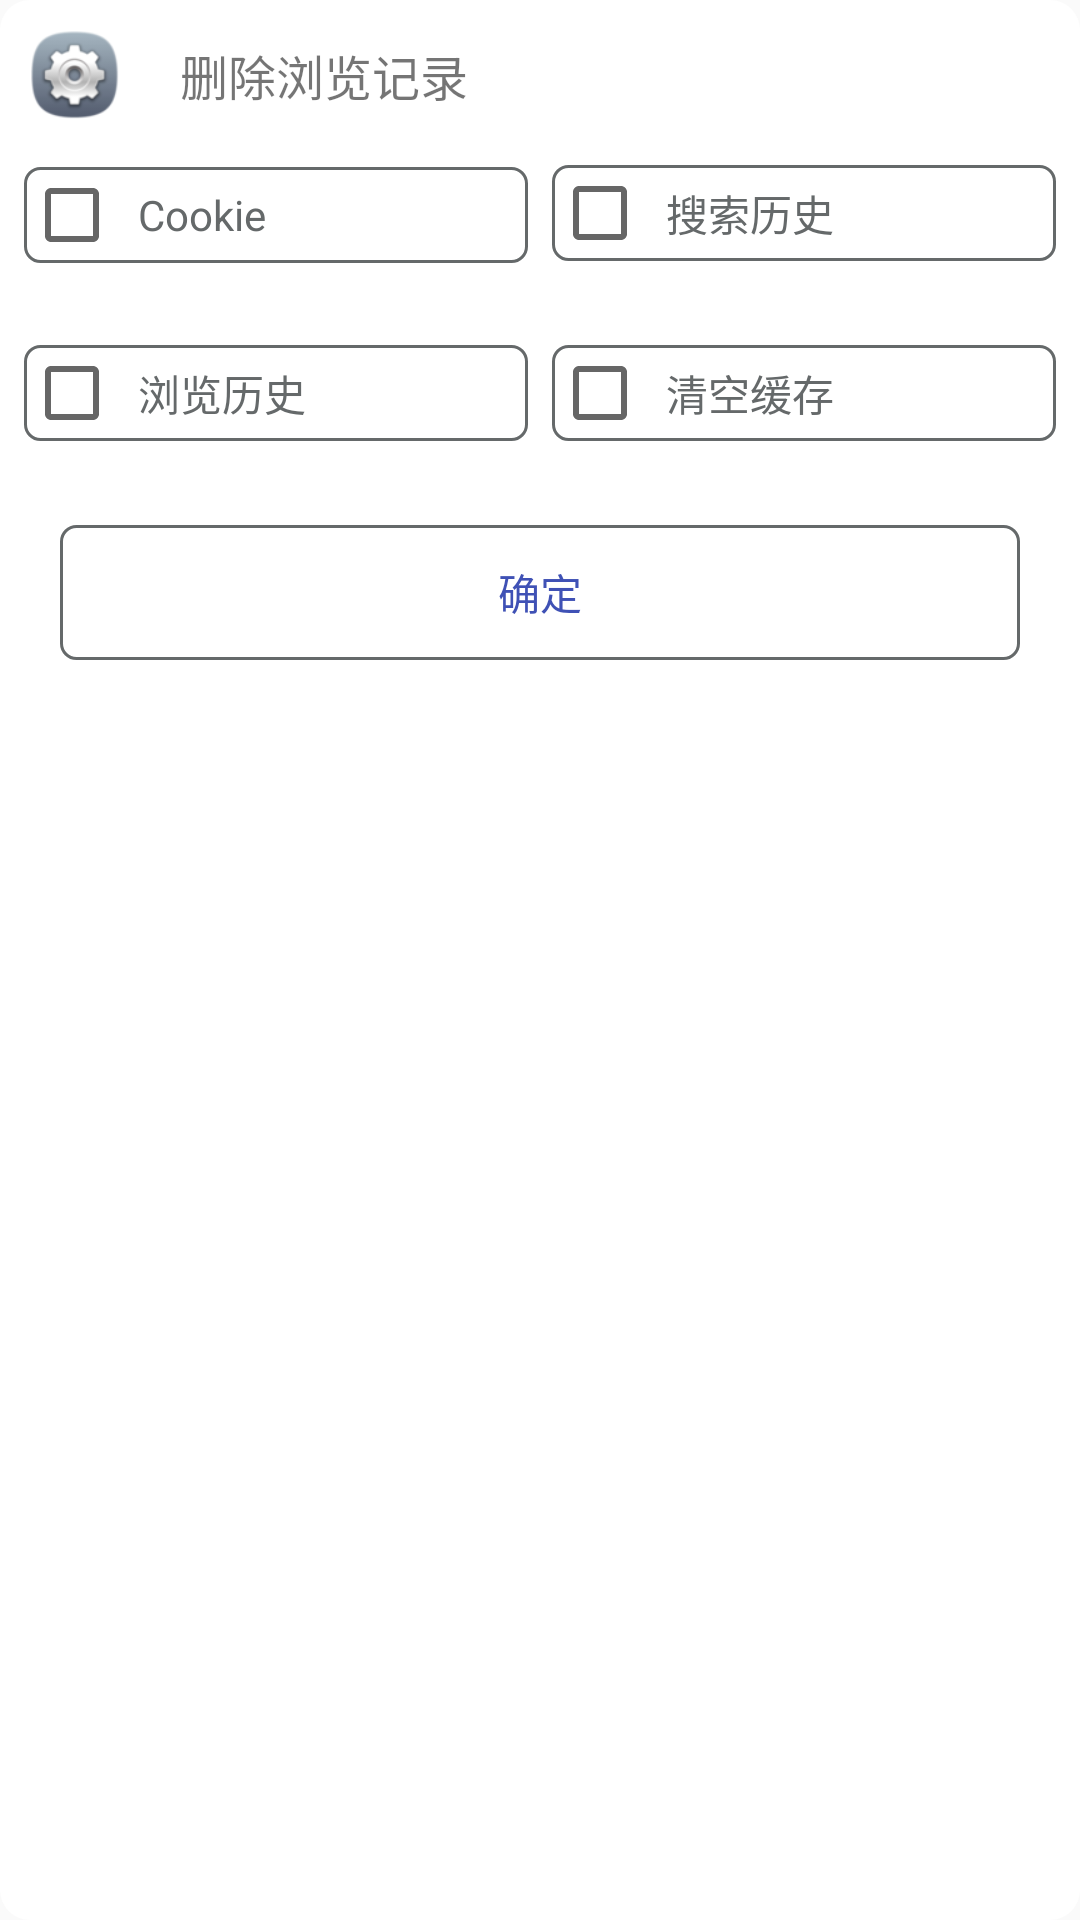

Where to tap for icons on this 1080×1920 app screen, as (x,y):
setting: (74,75)
